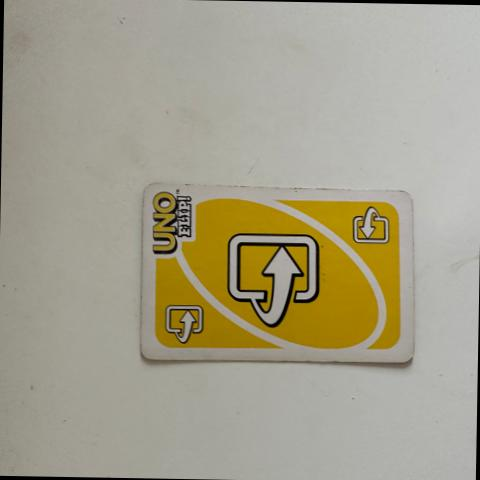lyellowflip-20: (147, 290, 218, 357)
